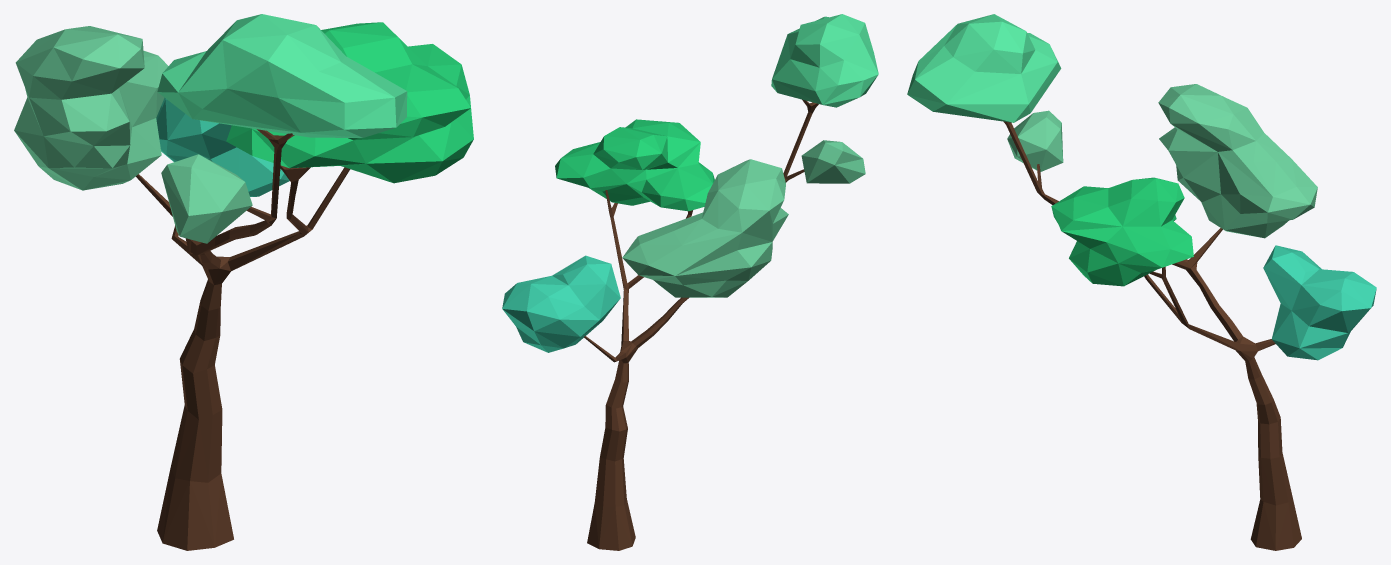
File: tree3.fbx
3 views of the same model, side by side, from view 1: azimuth 30°, elevation 25°; view 2: azimuth 150°, elevation 25°; view 3: azimuth 270°, elevation 25° (orthographic). The views are drawn at different scales.
Visible parts, largest first — view 1: tree3_leaves, tree3_trunk; view 2: tree3_leaves, tree3_trunk; view 3: tree3_leaves, tree3_trunk.
Part boxes in pixels (x1=…): tree3_leaves: x1=14, y1=14, x2=473, y2=243; tree3_trunk: x1=136, y1=129, x2=350, y2=550; tree3_leaves: x1=502, y1=14, x2=878, y2=352; tree3_trunk: x1=584, y1=99, x2=818, y2=550; tree3_leaves: x1=907, y1=14, x2=1376, y2=360; tree3_trunk: x1=1003, y1=121, x2=1301, y2=550.
Bounding box in the file's own units: 4.23 × 7.22 × 6.48.
